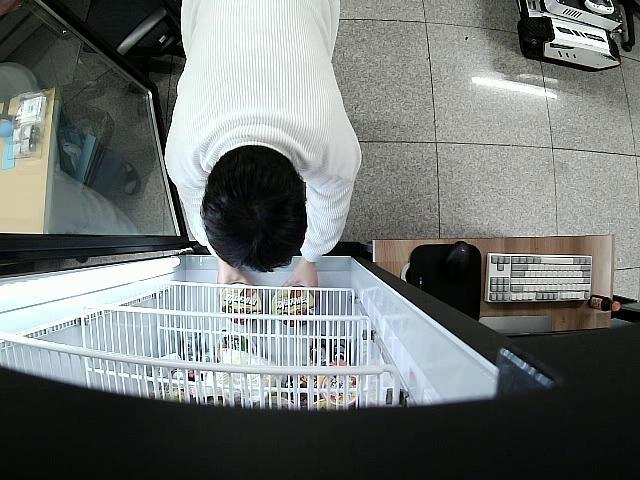03_chapagetti_L: (272, 286, 316, 327), (220, 284, 262, 324)
